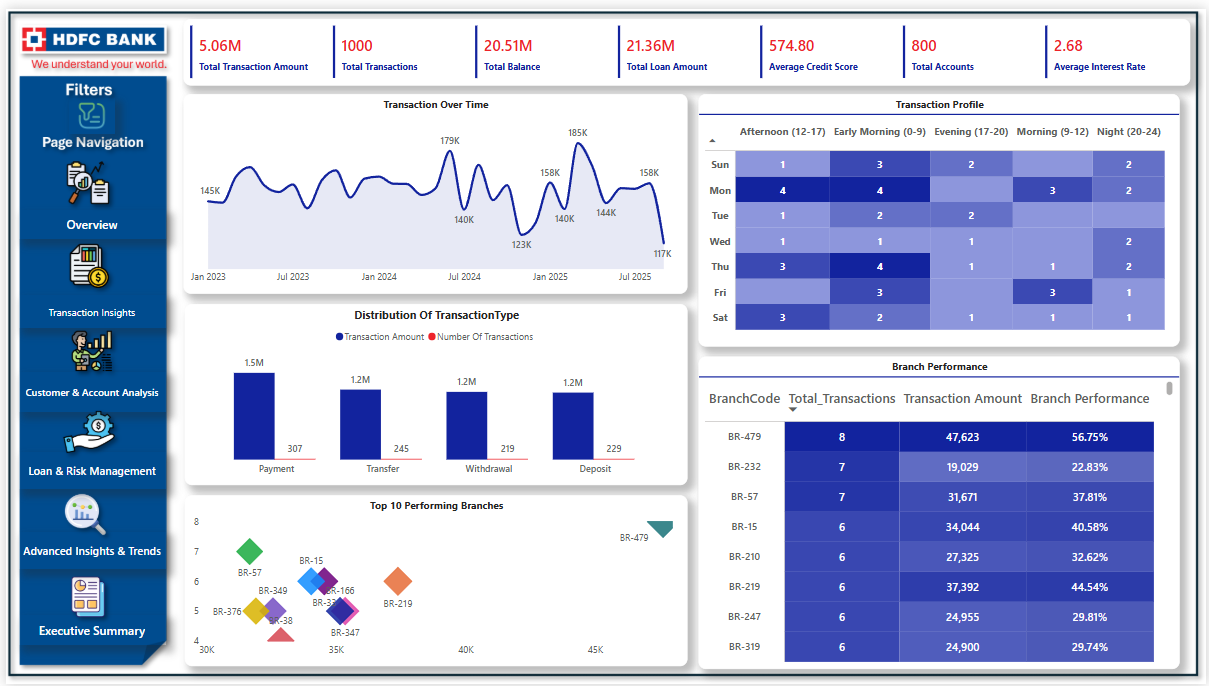

The page's visual inventory and layout, read from the dashboard file:
{"tool":"powerbi","page":{"name":" Transaction Insights","canvas":[1600,900],"ordinal":2},"visuals":[{"type":"cardVisual","fields":{"Data":["All Measures.Total Transaction Amount","All Measures.Total Transactions","All Measures.Total Balance","All Measures.Total Loan Amount","All Measures.Average Credit Score","All Measures.Total Accounts","All Measures.Average Interest Rate"]},"box":[236.8,13.6,1342.2,89],"z":0},{"type":"lineChart","title":"Transaction Over Time","fields":{"Y":["All Measures.Total Transaction Amount"],"Category":["CalendarTable.Date.Variation.Date Hierarchy.Year","CalendarTable.Date.Variation.Date Hierarchy.Quarter","CalendarTable.Date.Variation.Date Hierarchy.Month","CalendarTable.Date.Variation.Date Hierarchy.Day"]},"box":[236.7,113.3,671.7,266.7],"z":1000},{"type":"clusteredColumnChart","title":"Distribution Of TransactionType","fields":{"Category":["banking_transactions.TransactionType"],"Y":["All Measures.Total Transaction Amount","CountNonNull(banking_transactions.TransactionID)"]},"box":[238.3,393.3,670,241.7],"z":2000},{"type":"pivotTable","title":"Transaction Profile","fields":{"Rows":["CalendarTable.Weekday"],"Values":["All Measures.Total Transactions"],"Columns":["banking_transactions.Transaction Time Bucket"]},"box":[923.3,113.3,641.7,336.7],"z":3000},{"type":"scatterChart","title":"Top 10 Performing  Branches","fields":{"Category":["banking_transactions.BranchCode"],"X":["All Measures.Total Transaction Amount"],"Y":["All Measures.Total Transactions"],"Size":["All Measures.Total Transaction Amount"],"Series":["banking_transactions.BranchCode"]},"box":[238.3,648.3,670,228.3],"z":4000},{"type":"pivotTable","title":"Branch Performance","fields":{"Rows":["banking_transactions.BranchCode"],"Values":["All Measures.Total_Transactions","All Measures.Total Transaction Amount","All Measures.Branch Performance Score"]},"box":[923.3,463.3,641.7,416.7],"z":5000},{"type":"pageNavigator","box":[16.7,268.3,196.7,38.3],"z":6000},{"type":"pageNavigator","box":[16.7,381.7,196.7,43.3],"z":7000},{"type":"pageNavigator","box":[16.7,483.3,196.7,53.3],"z":8000},{"type":"pageNavigator","box":[16.7,590,196.7,50],"z":9000},{"type":"pageNavigator","box":[16.7,696.7,196.7,50],"z":10000},{"type":"pageNavigator","box":[16.7,808.3,196.7,40],"z":11000},{"type":"image","title":"Filter button","box":[83.3,118.3,61.7,48.3],"z":12501}]}

Visuals, with their boxes in screenshot pixels (x1, y1, x2, y2), scaled from the page's 1600x900 canvas onto the 1209x686 screenshot:
cardVisual - All Measures.Total Transaction Amount x All Measures.Total Transactions: 179:10:1193:78
"Transaction Over Time" lineChart: 179:86:686:290
"Distribution Of TransactionType" clusteredColumnChart: 180:300:686:484
"Transaction Profile" pivotTable: 698:86:1183:343
"Top 10 Performing  Branches" scatterChart: 180:494:686:668
"Branch Performance" pivotTable: 698:353:1183:671
pageNavigator: 13:205:161:234
pageNavigator: 13:291:161:324
pageNavigator: 13:368:161:409
pageNavigator: 13:450:161:488
pageNavigator: 13:531:161:569
pageNavigator: 13:616:161:647
"Filter button" image: 63:90:110:127
